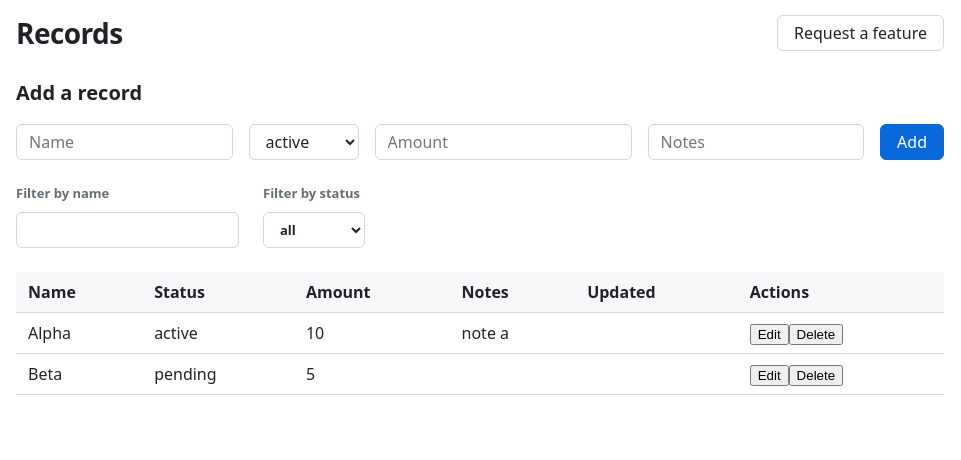
Test case: DAN-9 · edit is optimistic with rollback › renders the new value BEFORE the PATCH resolves
Expected: the text "Alpha" is shown, [16,312,142,353]
Step 1. Click the button "Edit" in the row of "Alpha" → (769,334), box [750,324,789,344]
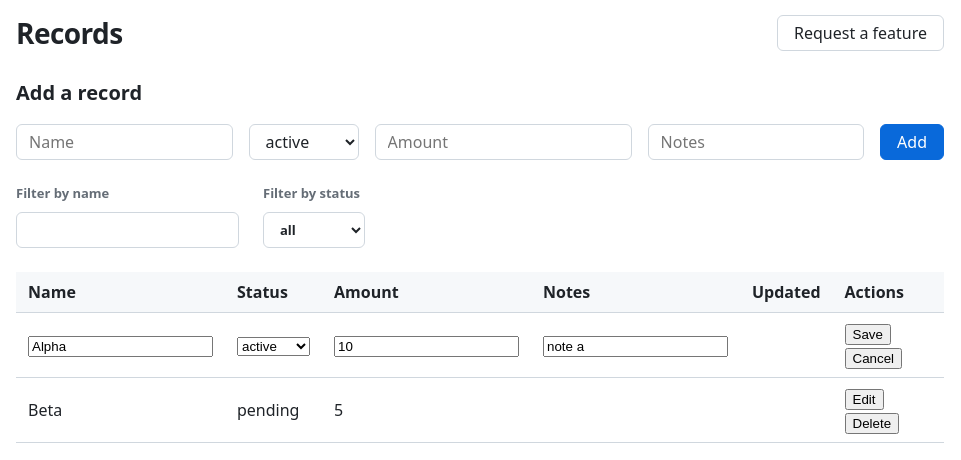
Step 2. Replace the text in the field named "Name" with "Renamed" → (120,346), box [28,336,213,356]
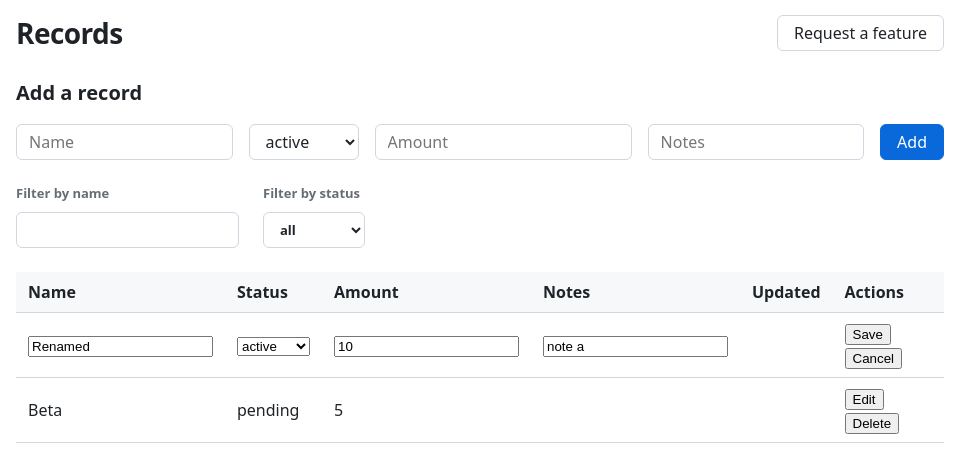
Step 3. Click the button "Save" → (868,334), box [844,324,891,344]
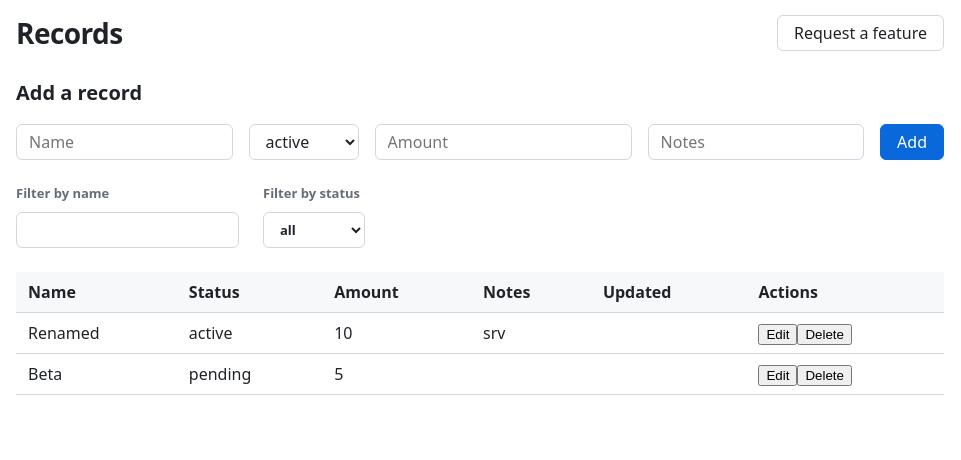
Expected: the text "Alpha" is not shown
Result: the text "Renamed" is shown at [16,312,177,353]
Result: the text "srv" is shown at [471,312,591,353]
